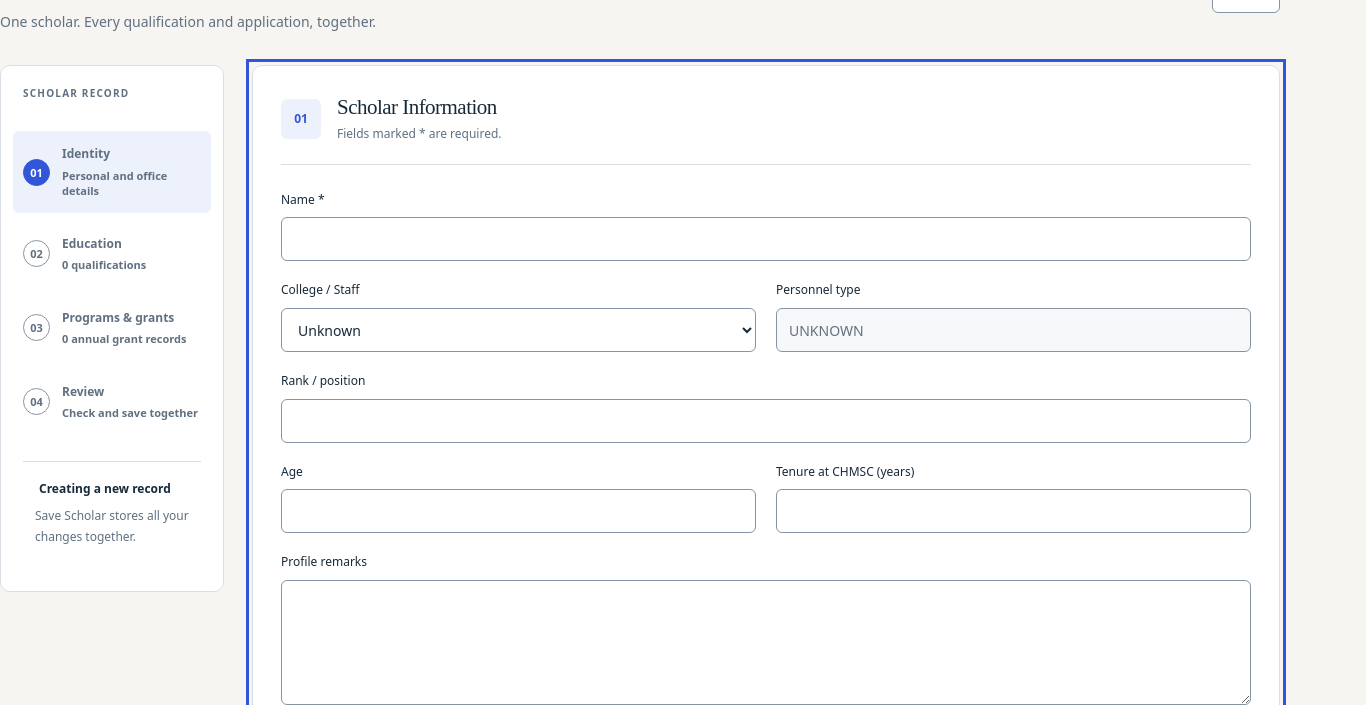
Scenario: review sends missing name back to the visible identity step
Click the button "04 Review Check and save together" at (112, 402), box [13,369,211,435]
(page scrolled)
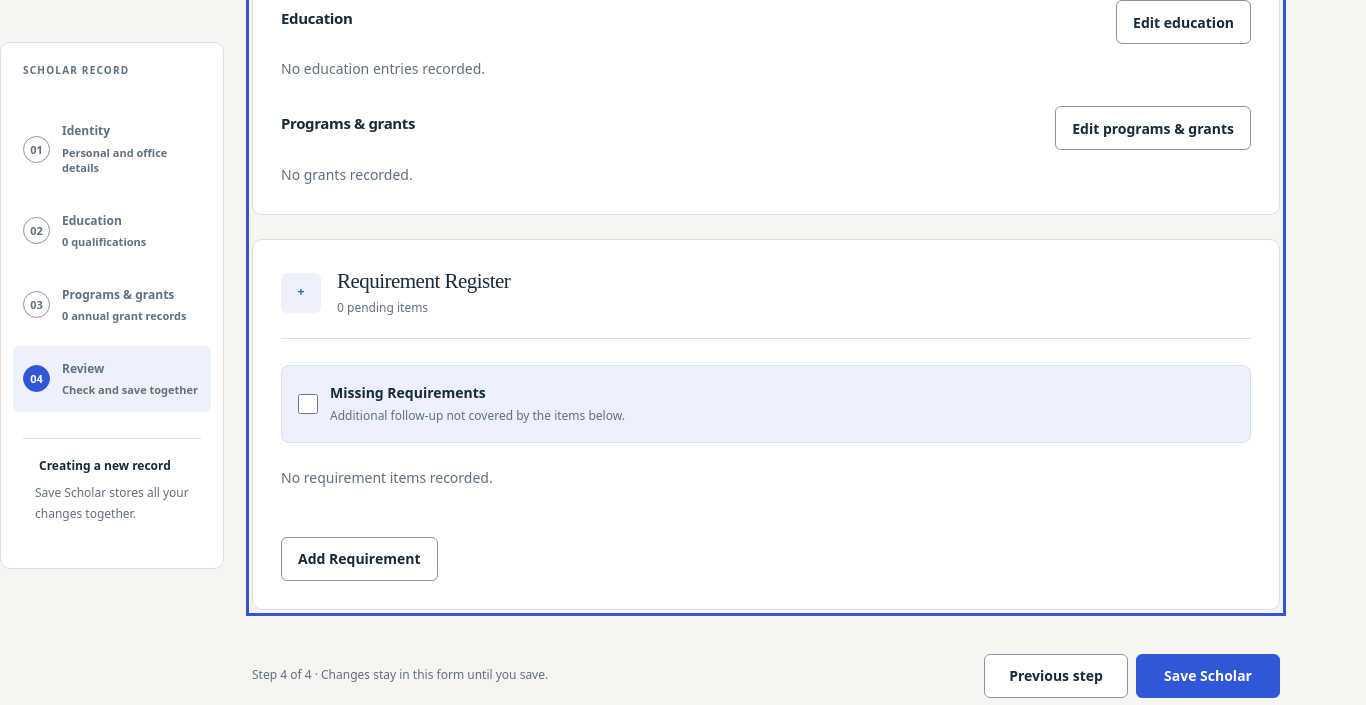
Click the button "Save Scholar" at (1208, 676), box [1136,654,1280,698]
(page scrolled)
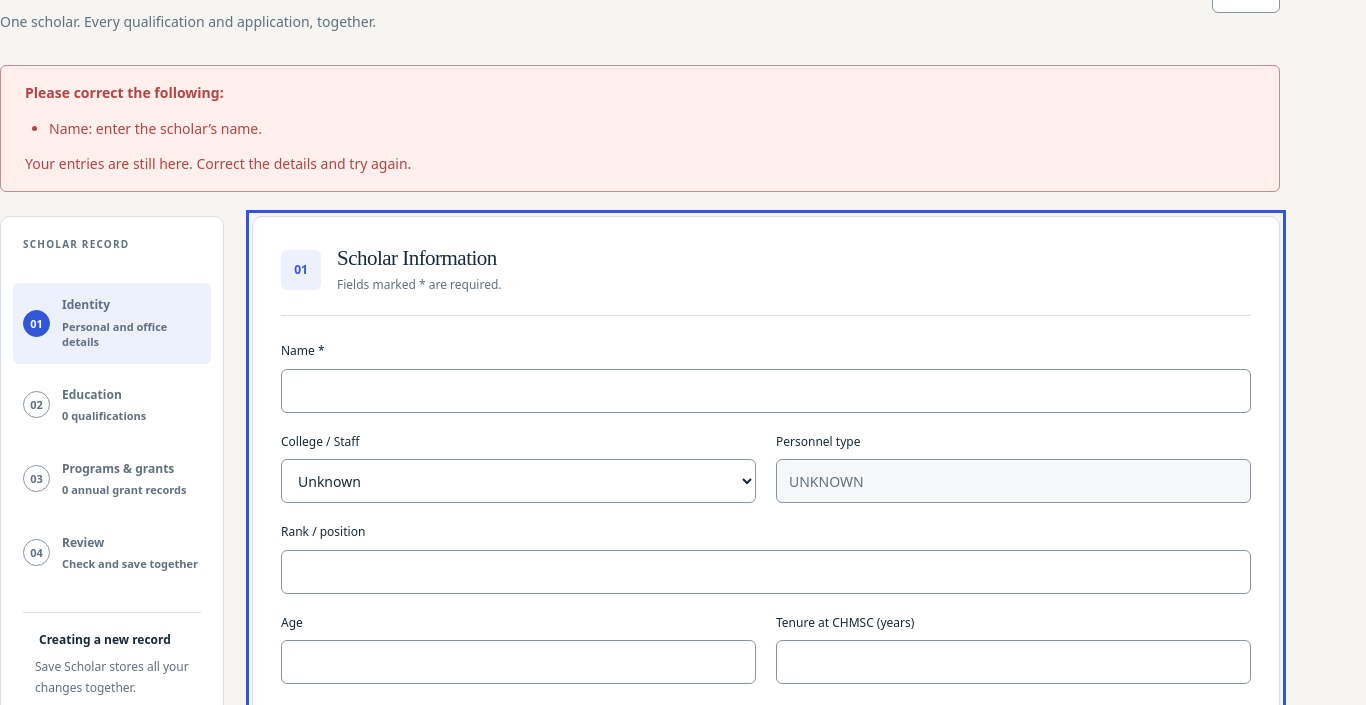
Expected: the field labelled "Name *" is shown, [281,368,1251,412]
Result: the message shows "enter the scholar’s name" at [49,119,262,138]
